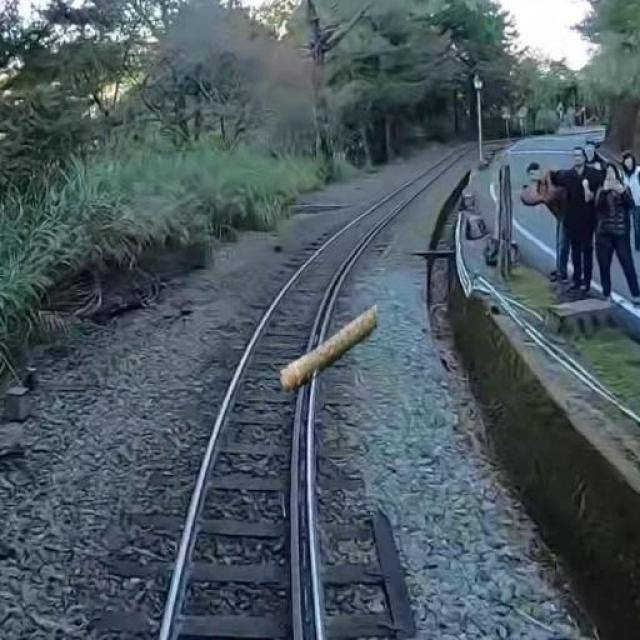Branches: (270, 302, 394, 387)
people: (521, 157, 592, 293), (557, 133, 602, 295), (594, 160, 640, 309)
